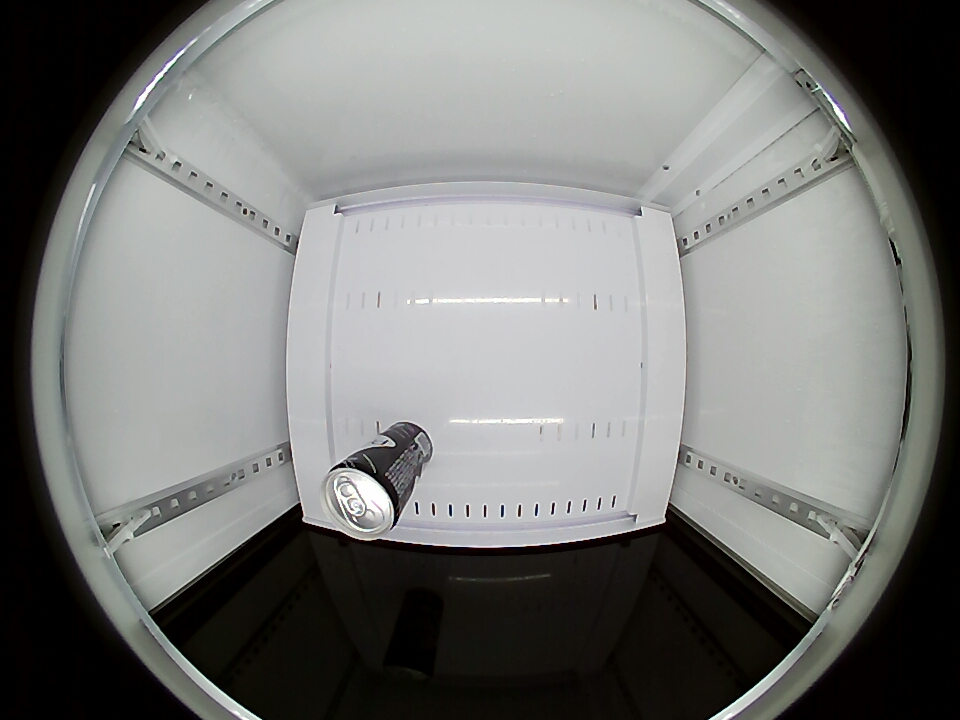qingdaowangzi-1: (321, 450, 410, 539)
